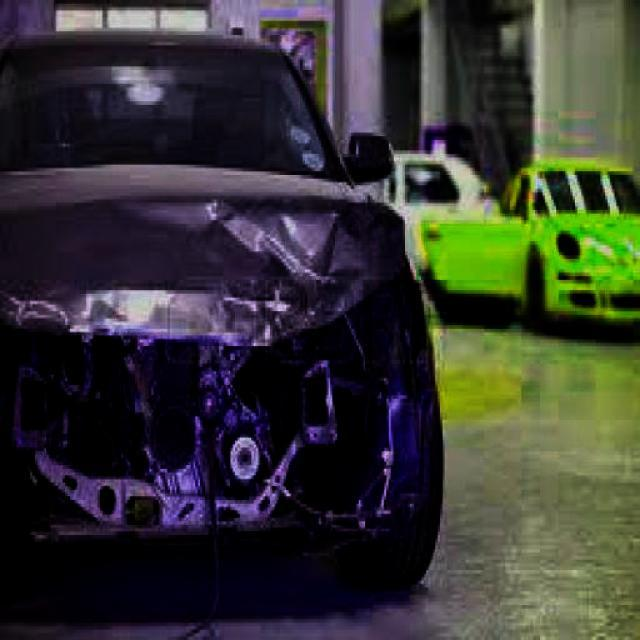car damage: (4, 201, 421, 548)
